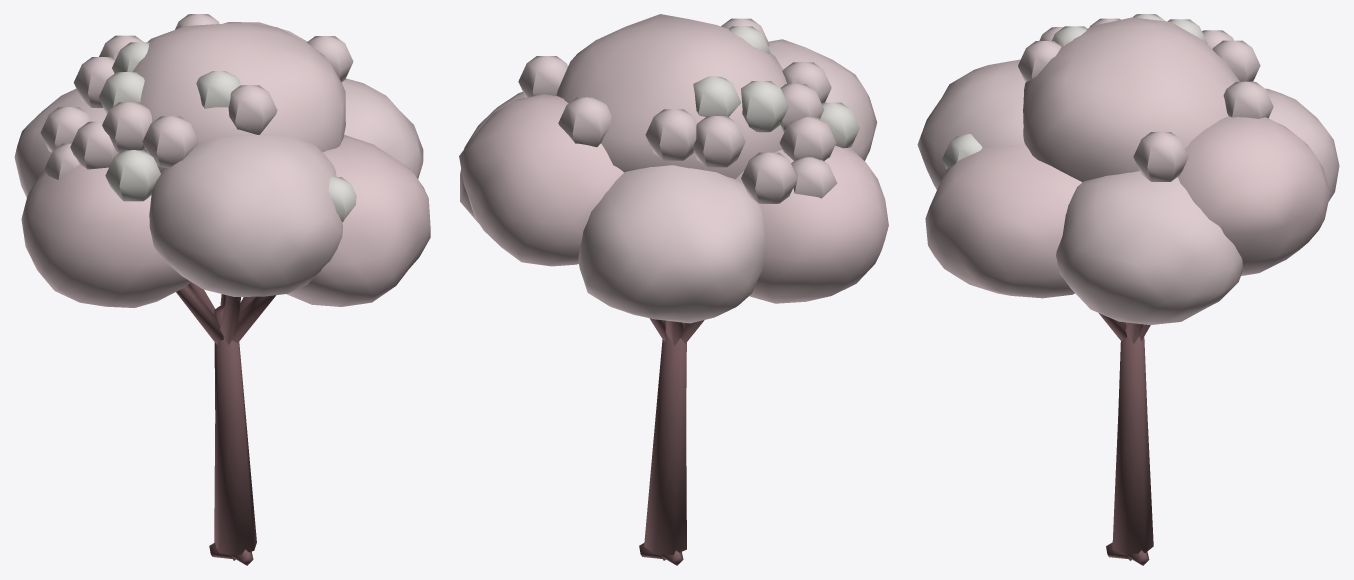
The model's file is apple_blossom.glb.
3 views of the same model, side by side, from view 1: azimuth 30°, elevation 25°; view 2: azimuth 150°, elevation 25°; view 3: azimuth 270°, elevation 25° (orthographic). The views are drawn at different scales.
Visible parts, largest first — view 1: apple_blossom; view 2: apple_blossom; view 3: apple_blossom.
Boxes of the visible parts, x1,y1,x2,y2 form: apple_blossom: (14,14,430,565); apple_blossom: (459,14,888,565); apple_blossom: (917,14,1339,565).
Size of what is drawn, in the model's own units: 4.63 by 6 by 4.42.
